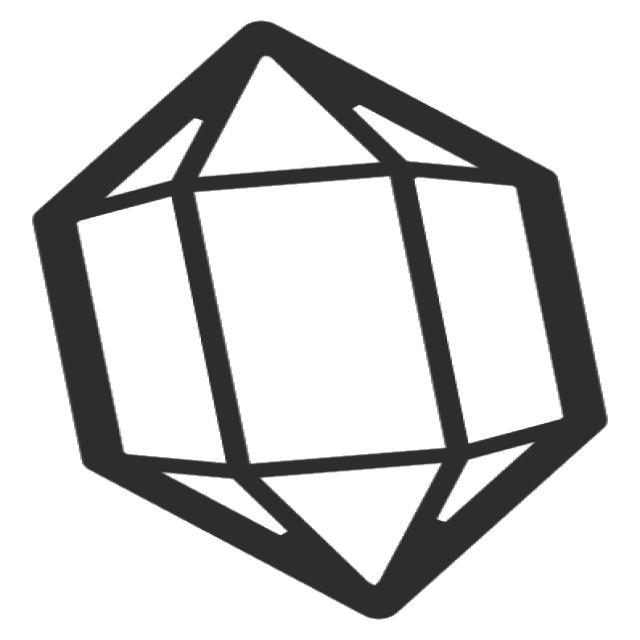crystal: (12, 12, 622, 634)
